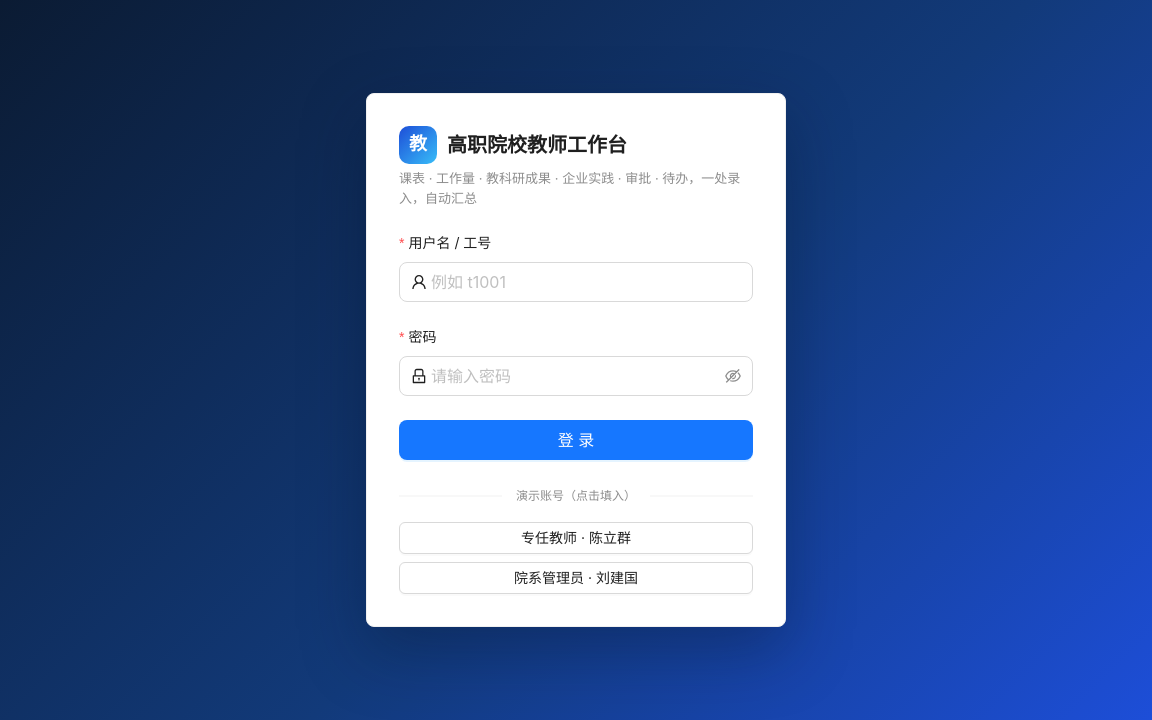
LoginPage › 未填写用户名时提交给出校验提示，不触发请求
This screenshot has width=1152, height=720.
Click the button "登 录".
click(576, 440)  # box x1=399 y1=420 x2=753 y2=460
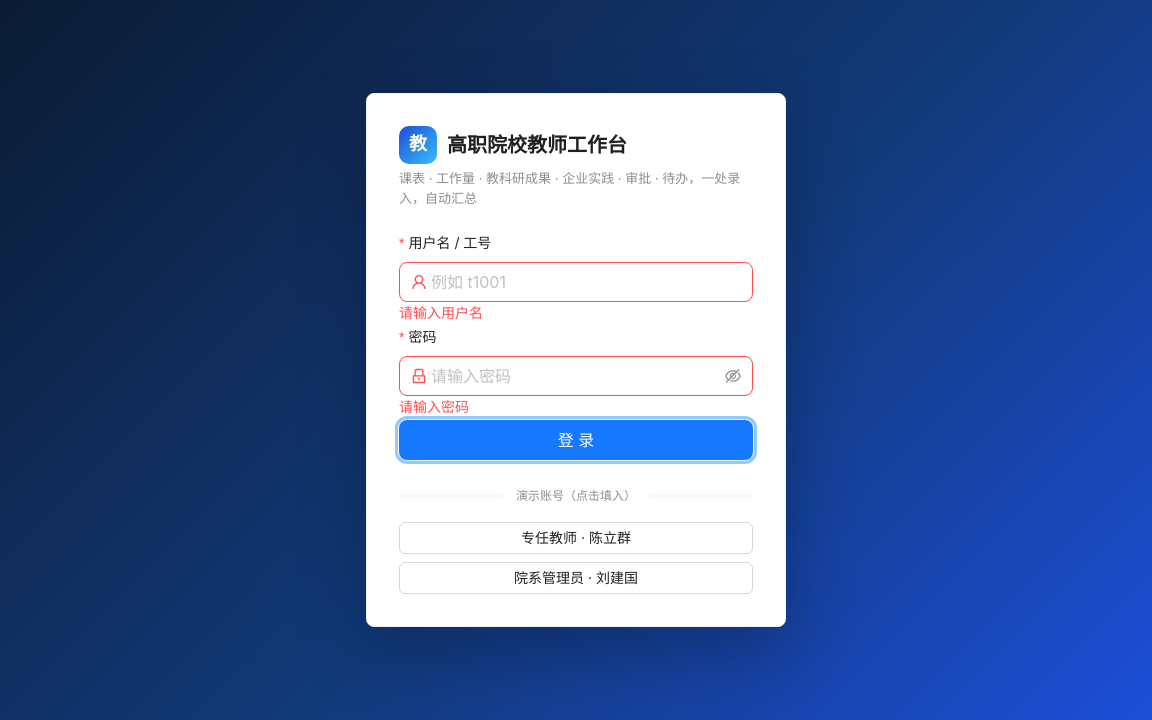
Result: the text "请输入用户名" is shown at x1=399 y1=304 x2=483 y2=321
